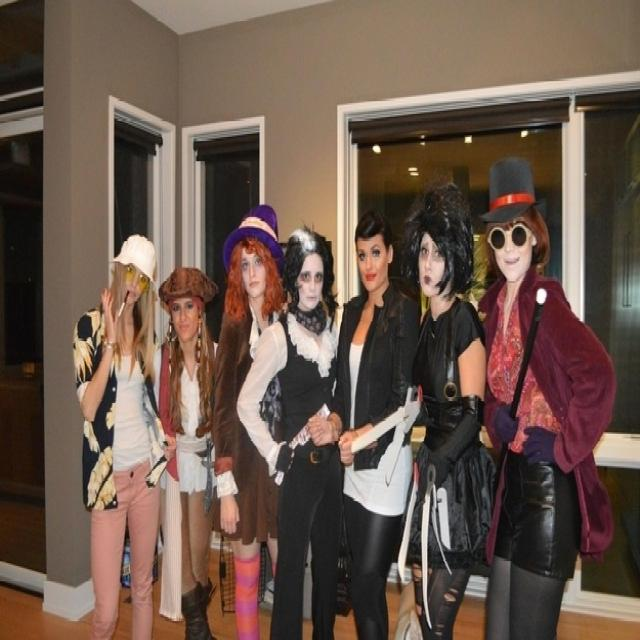body: (463, 152, 621, 638), (305, 202, 424, 638), (388, 174, 498, 638), (234, 217, 354, 638), (67, 227, 180, 638), (209, 201, 288, 640), (150, 264, 220, 640)
